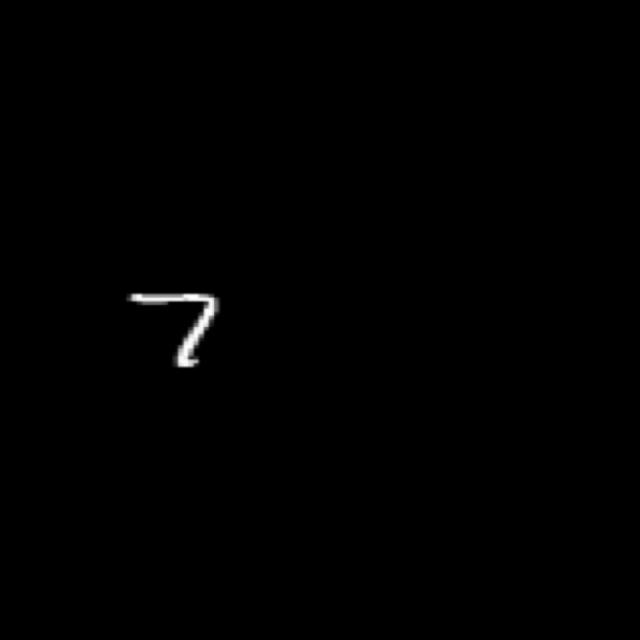seven -7-: (122, 286, 222, 375)
